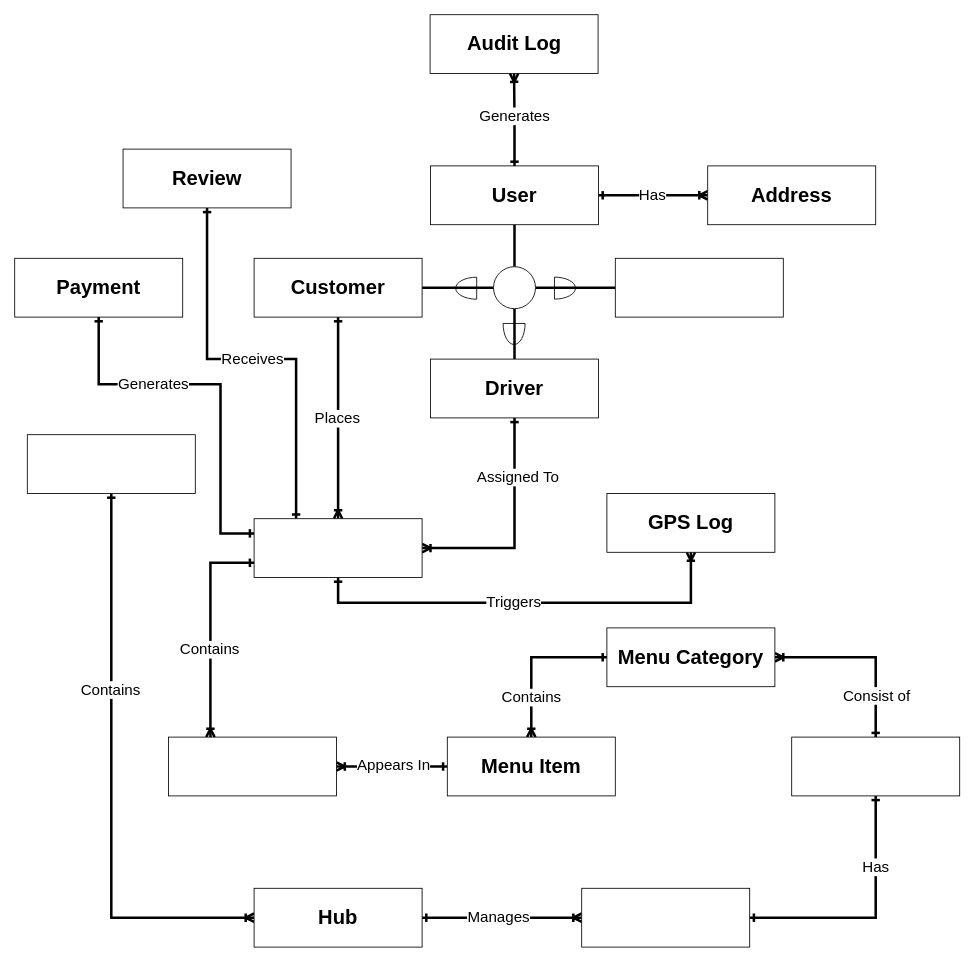
Image size: 974x962. Some labels were removed from this diagram. The centre of each missing label's shape, as x and y in pixels:
"Menu" goes at point 875,766.
"Order" goes at point 337,548.
"Order Items" goes at point 252,766.
"Region" goes at point 110,464.
"Restaurant" goes at point 665,917.
"Staff" goes at point 698,287.
